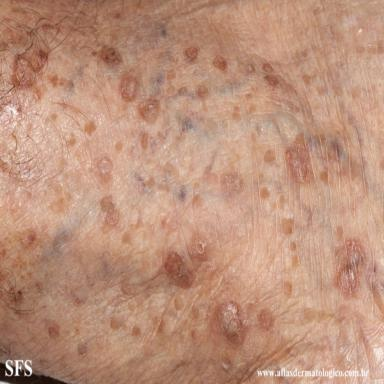Porokeratosis: (215, 299, 250, 345), (336, 239, 365, 294), (11, 48, 48, 88), (286, 134, 312, 183), (164, 250, 195, 289), (371, 256, 384, 321), (101, 195, 119, 227), (221, 172, 244, 195), (139, 97, 159, 122), (121, 74, 138, 101), (100, 47, 121, 68), (97, 156, 113, 181), (263, 62, 279, 87), (19, 229, 36, 248), (192, 237, 207, 258), (258, 309, 272, 328), (184, 46, 198, 62), (212, 56, 227, 70), (197, 86, 209, 99), (48, 323, 59, 337), (77, 341, 87, 355)
